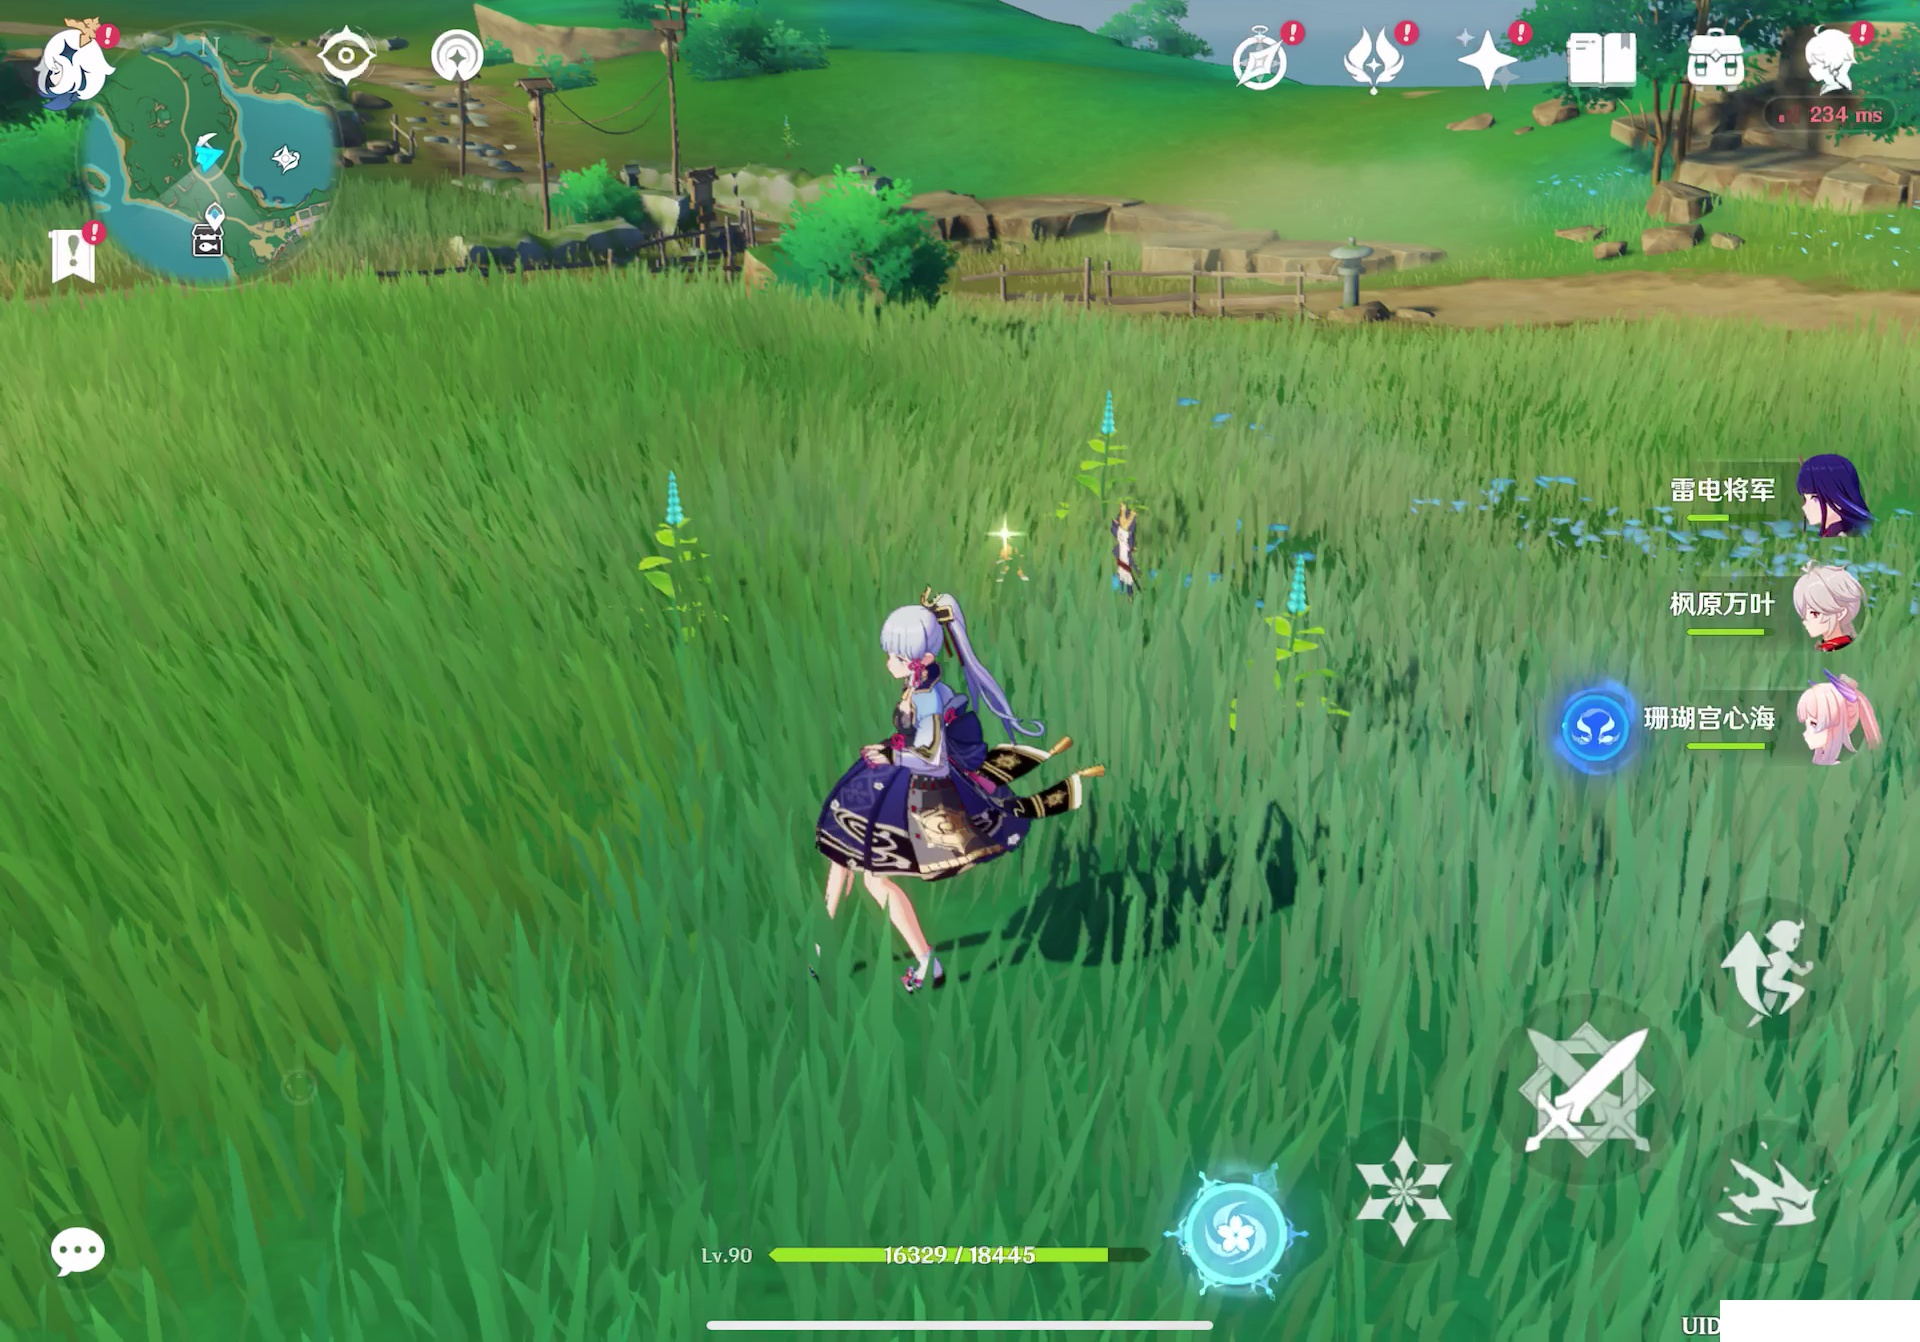没用的甜甜花: (961, 497, 1036, 583)
没用的薄荷: (1226, 548, 1366, 759), (611, 451, 737, 658), (1056, 389, 1154, 525)
神里绫龟: (789, 586, 1119, 996)
